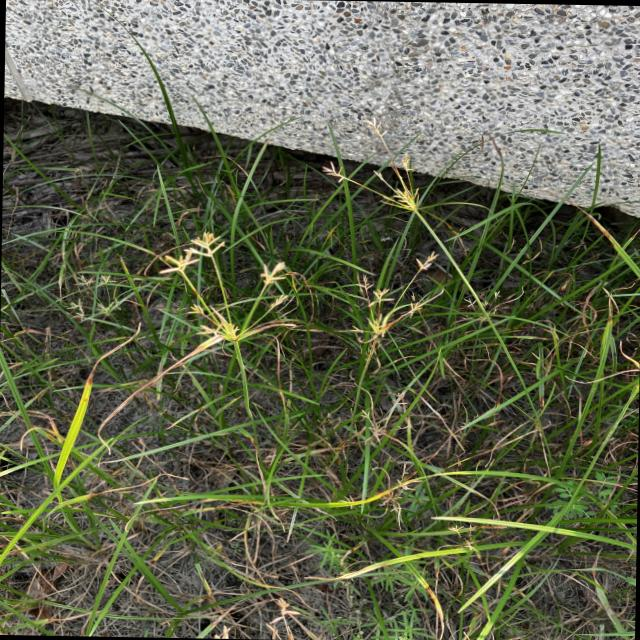cyperus: (154, 227, 304, 353), (319, 111, 437, 212), (347, 245, 449, 344), (344, 379, 420, 448), (362, 460, 422, 528), (62, 270, 124, 324), (458, 288, 503, 328), (264, 596, 304, 640), (444, 522, 487, 560)
